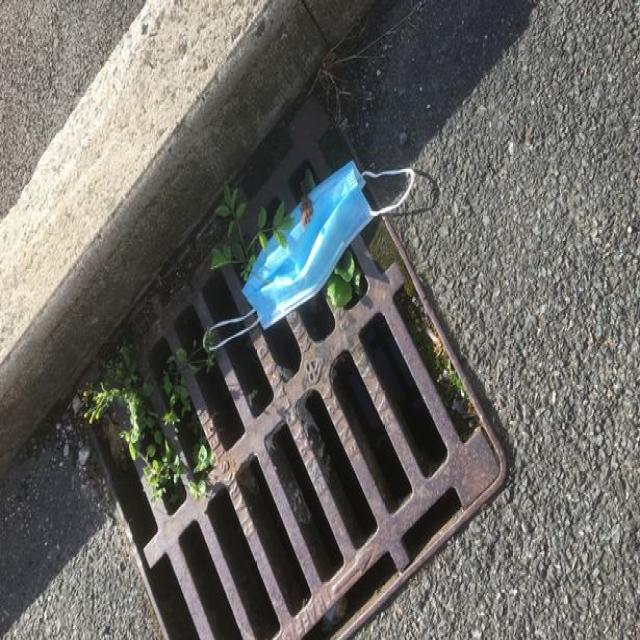non-organic waste: (206, 154, 417, 356)
